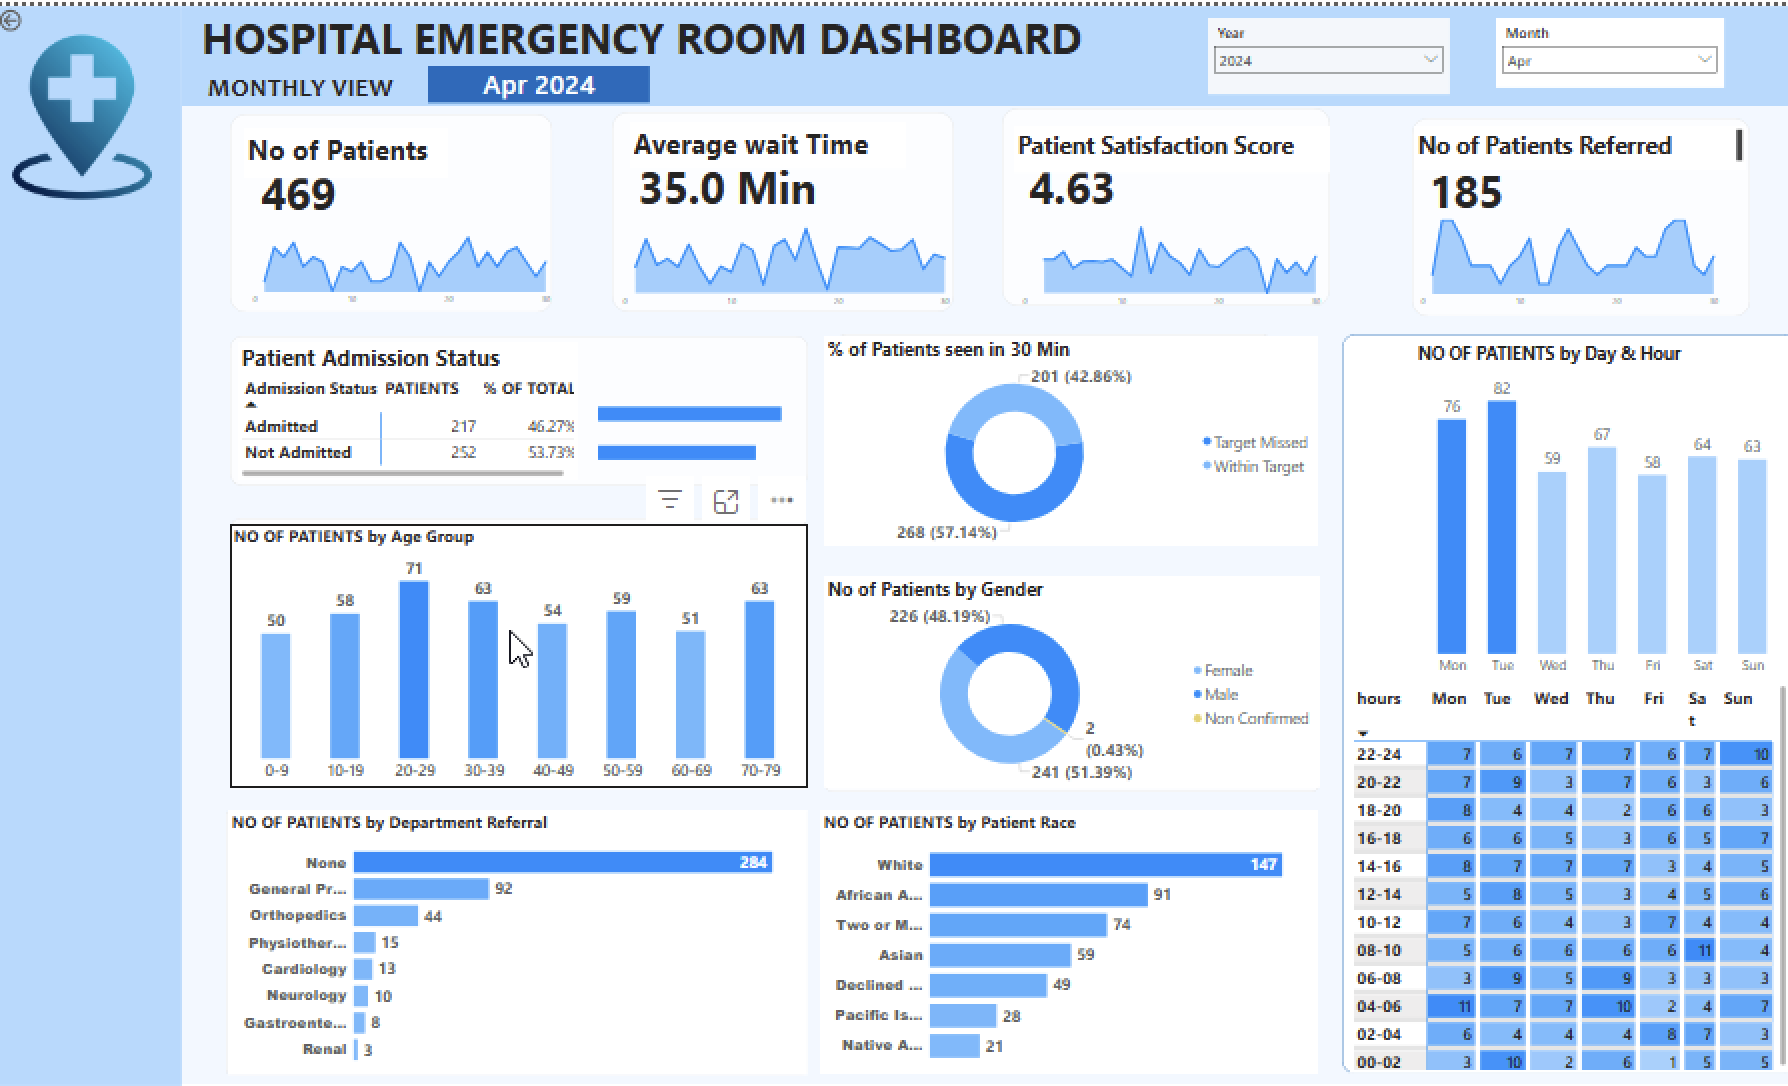

Layout of this report page (visuals, bound fields, positions):
{"tool":"powerbi","page":{"name":"Monthly View","canvas":[2500,1500],"ordinal":0},"visuals":[{"type":"shape","box":[0,0,258.3,1500],"z":0},{"type":"shape","box":[258.3,0,2241.7,138.9],"z":1000},{"type":"textbox","box":[281.8,0,1253.1,139.7],"z":2000},{"type":"textbox","box":[288.4,82.4,290.8,67.9],"z":3000},{"type":"actionButton","box":[0,0,100,40],"z":4000},{"type":"shape","box":[324.8,150.3,448.4,276.3],"z":5000},{"type":"card","fields":{"Values":["Hospital ER_Data.NO OF PATIENTS"]},"box":[344.2,206,150.3,101.8],"z":6000},{"type":"slicer","fields":{"Values":["Date Table.Month Name"]},"box":[2083.3,16.7,316.7,97.2],"z":7000},{"type":"slicer","fields":{"Values":["Date Table.Year"]},"box":[1683.3,16.7,336.1,105.6],"z":8000},{"type":"textbox","box":[344.2,169.7,283.6,70.3],"z":9000},{"type":"areaChart","fields":{"Category":["Date Table.Date.Variation.Date Hierarchy.Day"],"Y":["Hospital ER_Data.NO OF PATIENTS"]},"box":[345,281.1,434.4,145.7],"z":10000},{"type":"image","box":[0,0,238.9,308.3],"z":11000},{"type":"card","fields":{"Values":["Min(Date Table.month & Year)"]},"box":[601.1,82.4,307.8,50.9],"z":12000},{"type":"shape","box":[1397.2,141.7,455.6,275],"z":13000},{"type":"card","fields":{"Values":["Avg(Hospital ER_Data.Patient Satisfaction Score)"]},"box":[1419.4,200,150,100],"z":14000},{"type":"textbox","box":[1413.5,167.6,438.7,65.4],"z":15000},{"type":"areaChart","fields":{"Category":["Date Table.Date.Variation.Date Hierarchy.Day"],"Y":["Avg(Hospital ER_Data.Patient Satisfaction Score)"]},"box":[1414.6,283.9,434.4,145.7],"z":16000},{"type":"shape","box":[855.6,147.2,475,277.8],"z":17000},{"type":"card","fields":{"Values":["Hospital ER_Data.Average Wait Time"]},"box":[882.3,203.1,265.6,95.2],"z":18000},{"type":"textbox","box":[881.3,162,382.9,65.4],"z":19000},{"type":"shape","box":[325,458.3,802.8,208.3],"z":20000},{"type":"areaChart","fields":{"Category":["Date Table.Date.Variation.Date Hierarchy.Day"],"Y":["Avg(Hospital ER_Data.Patient Waittime)"]},"box":[858.3,280.6,475,147.2],"z":21000},{"type":"shape","box":[1965.3,155.1,470.2,276.3],"z":22000},{"type":"card","fields":{"Values":["Hospital ER_Data.No of patient Referred"]},"box":[1967.9,202.1,150.3,101.8],"z":23000},{"type":"textbox","box":[1969.4,166.7,461.1,61.1],"z":24000},{"type":"areaChart","fields":{"Category":["Date Table.Date.Variation.Date Hierarchy.Day"],"Y":["Hospital ER_Data.No of patient Referred"]},"box":[1967.8,283.9,434.4,145.7],"z":25000},{"type":"pivotTable","title":"Patient Admission Status","fields":{"Rows":["Hospital ER_Data.Admission Status"],"Values":["Hospital ER_Data.NO OF PATIENTS1","Divide(Hospital ER_Data.NO OF PATIENTS, ScopedEval(Hospital ER_Data.NO OF PATIENTS, []))"]},"box":[336.1,466.7,472.2,191.7],"z":26000},{"type":"barChart","fields":{"Category":["Hospital ER_Data.Admission Status"],"Y":["Hospital ER_Data.NO OF PATIENTS"]},"box":[830.6,516.7,313.9,150],"z":27000},{"type":"shape","box":[324.3,711.7,802.4,368],"z":28000},{"type":"shape","box":[319.2,1117.3,807.6,368],"z":29000},{"type":"clusteredColumnChart","fields":{"Category":["Hospital ER_Data.Age Group"],"Y":["Hospital ER_Data.NO OF PATIENTS"]},"box":[324.3,719.3,802.4,368],"z":30000},{"type":"clusteredBarChart","fields":{"Category":["Hospital ER_Data.Department Referral"],"Y":["Hospital ER_Data.NO OF PATIENTS"]},"box":[321.8,1117.3,805,368],"z":31000},{"type":"shape","box":[1170.4,454.9,600.6,270.9],"z":32000},{"type":"donutChart","title":"% of Patients seen in 30 Min","fields":{"Category":["Hospital ER_Data.Wait Time Status"],"Y":["Hospital ER_Data.NO OF PATIENTS"]},"box":[1150,458.3,686.1,291.7],"z":33000},{"type":"shape","box":[1150,791.7,688.9,300],"z":34000},{"type":"donutChart","title":"No of Patients by Gender","fields":{"Category":["Hospital ER_Data.Patient Gender"],"Y":["Hospital ER_Data.NO OF PATIENTS"]},"box":[1150,791.7,688.9,294.4],"z":35000},{"type":"clusteredBarChart","fields":{"Category":["Hospital ER_Data.Patient Race","Hospital ER_Data.Department Referral"],"Y":["Hospital ER_Data.NO OF PATIENTS"]},"box":[1144.4,1116.7,691.7,366.7],"z":36000},{"type":"shape","box":[1869.4,455.6,630.6,1027.8],"z":37000},{"type":"pivotTable","fields":{"Rows":["Hospital ER_Data.Waiting Interval"],"Columns":["Date Table.Day Name"],"Values":["Hospital ER_Data.NO OF PATIENTS"]},"box":[1880.6,938.9,611.1,544.4],"z":38000},{"type":"columnChart","title":"NO OF PATIENTS by Day & Hour","fields":{"Category":["Date Table.Day Name"],"Y":["Hospital ER_Data.NO OF PATIENTS"]},"box":[1969.4,466.7,525,472.2],"z":39000}]}

Visuals, with their boxes in screenshot pixels (x1, y1, x2, y2), scaled from the page's 2500x1500 canvas onto the 1788x1086 screenshot:
shape: [0, 0, 185, 1085]
shape: [185, 0, 1787, 101]
textbox: [202, 0, 1098, 101]
textbox: [206, 60, 414, 109]
actionButton: [0, 0, 72, 29]
shape: [232, 109, 553, 309]
card - Hospital ER_Data.NO OF PATIENTS: [246, 149, 354, 223]
slicer - Date Table.Month Name: [1490, 12, 1716, 82]
slicer - Date Table.Year: [1204, 12, 1444, 89]
textbox: [246, 123, 449, 174]
areaChart - Date Table.Date.Variation.Date Hierarchy.Day x Hospital ER_Data.NO OF PATIENTS: [247, 204, 557, 309]
image: [0, 0, 171, 223]
card - Min(Date Table.month & Year): [430, 60, 650, 97]
shape: [999, 103, 1325, 302]
card - Avg(Hospital ER_Data.Patient Satisfaction Score): [1015, 145, 1122, 217]
textbox: [1011, 121, 1325, 169]
areaChart - Date Table.Date.Variation.Date Hierarchy.Day x Avg(Hospital ER_Data.Patient Satisfaction Score): [1012, 206, 1322, 311]
shape: [612, 107, 952, 308]
card - Hospital ER_Data.Average Wait Time: [631, 147, 821, 216]
textbox: [630, 117, 904, 165]
shape: [232, 332, 807, 483]
areaChart - Date Table.Date.Variation.Date Hierarchy.Day x Avg(Hospital ER_Data.Patient Waittime): [614, 203, 954, 310]
shape: [1406, 112, 1742, 312]
card - Hospital ER_Data.No of patient Referred: [1407, 146, 1515, 220]
textbox: [1409, 121, 1738, 165]
areaChart - Date Table.Date.Variation.Date Hierarchy.Day x Hospital ER_Data.No of patient Referred: [1407, 206, 1718, 311]
"Patient Admission Status" pivotTable: [240, 338, 578, 477]
barChart - Hospital ER_Data.Admission Status x Hospital ER_Data.NO OF PATIENTS: [594, 374, 819, 483]
shape: [232, 515, 806, 782]
shape: [228, 809, 806, 1075]
clusteredColumnChart - Hospital ER_Data.Age Group x Hospital ER_Data.NO OF PATIENTS: [232, 521, 806, 787]
clusteredBarChart - Hospital ER_Data.Department Referral x Hospital ER_Data.NO OF PATIENTS: [230, 809, 806, 1075]
shape: [837, 329, 1267, 525]
"% of Patients seen in 30 Min" donutChart: [822, 332, 1313, 543]
shape: [822, 573, 1315, 790]
"No of Patients by Gender" donutChart: [822, 573, 1315, 786]
clusteredBarChart - Hospital ER_Data.Patient Race x Hospital ER_Data.Department Referral: [818, 808, 1313, 1074]
shape: [1337, 330, 1787, 1074]
pivotTable - Hospital ER_Data.Waiting Interval x Date Table.Day Name: [1345, 680, 1782, 1074]
"NO OF PATIENTS by Day & Hour" columnChart: [1409, 338, 1784, 680]
